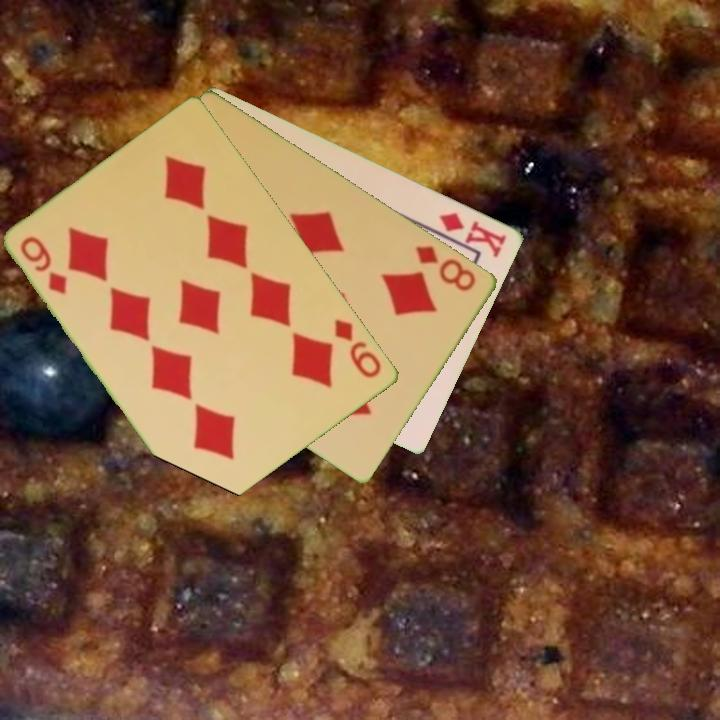8d: (412, 242, 480, 295)
9d: (331, 315, 385, 382), (17, 232, 71, 298)
Kd: (436, 208, 510, 260)
